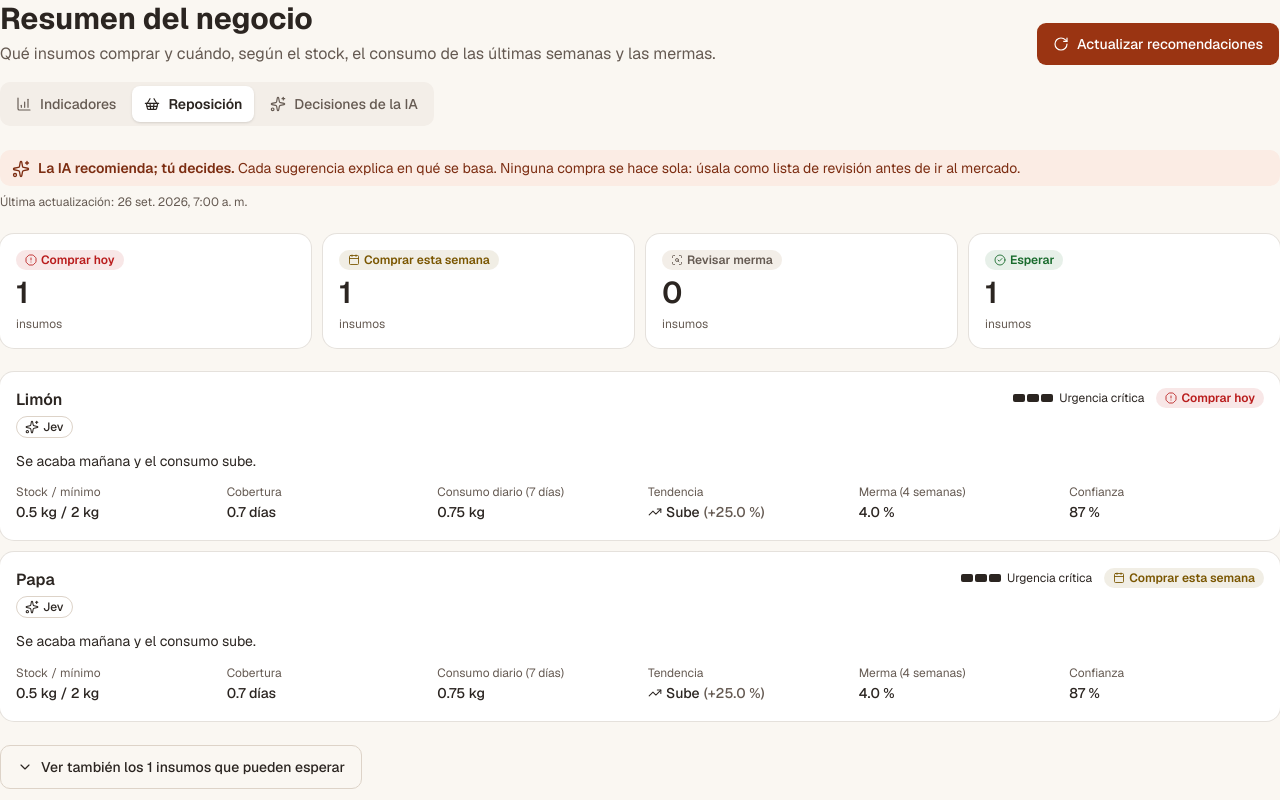
Test: RestockView › cada tarjeta explica la decisión con sus números y el motor
The width and height of the screenshot is (1280, 800).
Expected: the heading "Limón" is shown, [16,388,62,410]
Expected: the text "Se acaba mañana y el consumo sube." below "Limón" is shown, [16,452,256,470]
Click the button "Ver también los 1 insumos que pueden esperar". click: (181, 767)
box: [0,745,362,789]
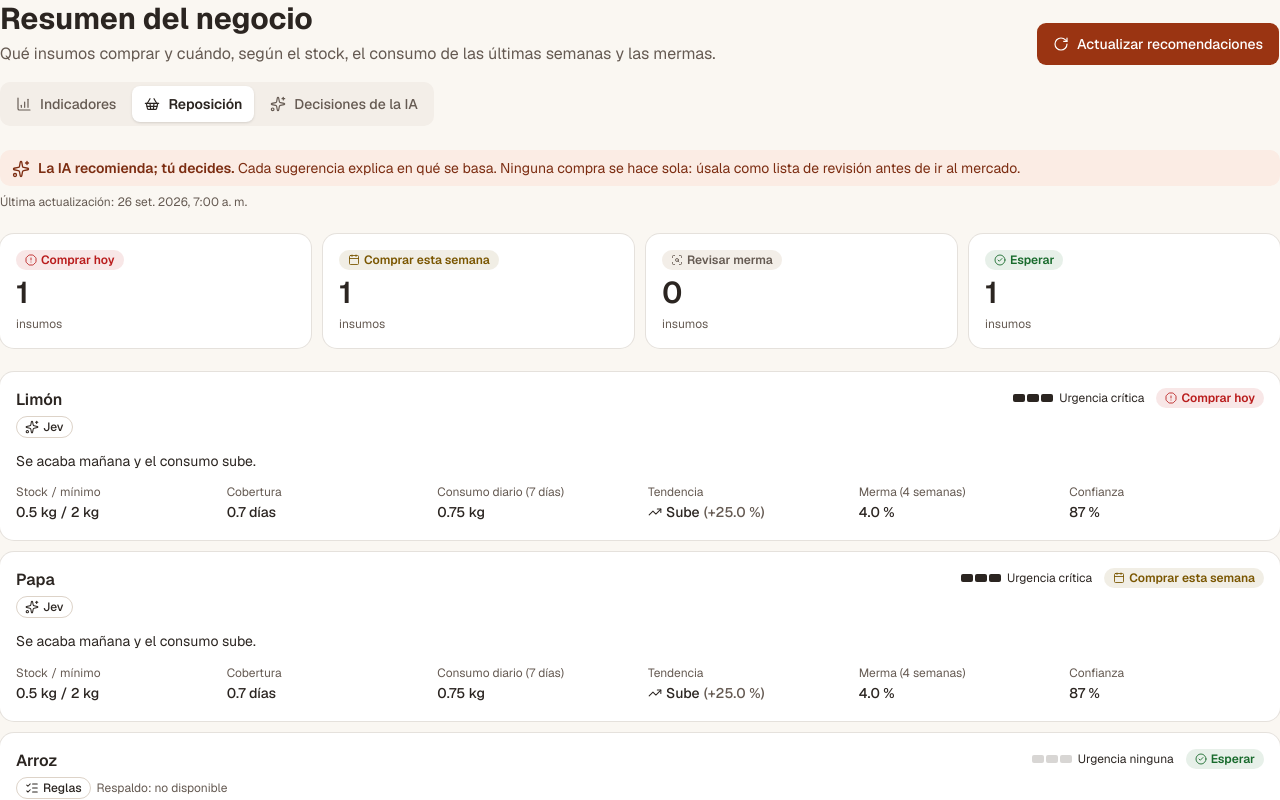
Expected: the text titled "Jev no respondió a tiempo" reads "Respaldo: no disponible", [97,780,227,796]
